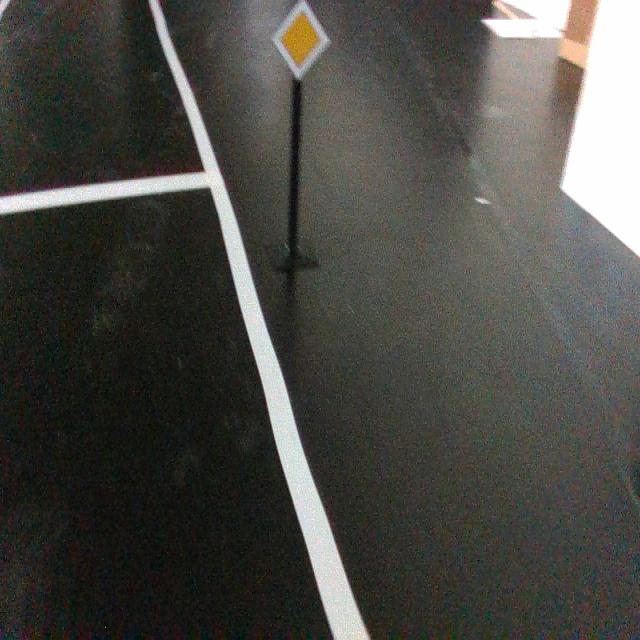priority-sign: (268, 0, 332, 82)
